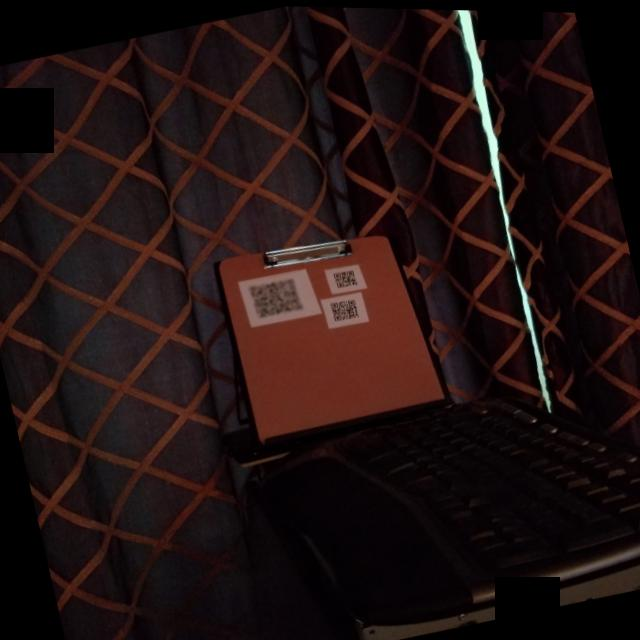QR_CODE: (241, 267, 308, 326), (324, 290, 370, 328), (328, 260, 365, 294)
